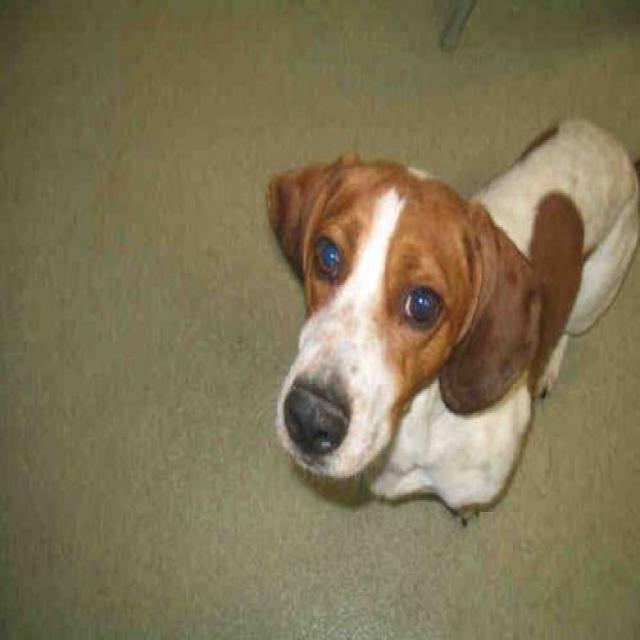dog: (264, 114, 639, 524)
